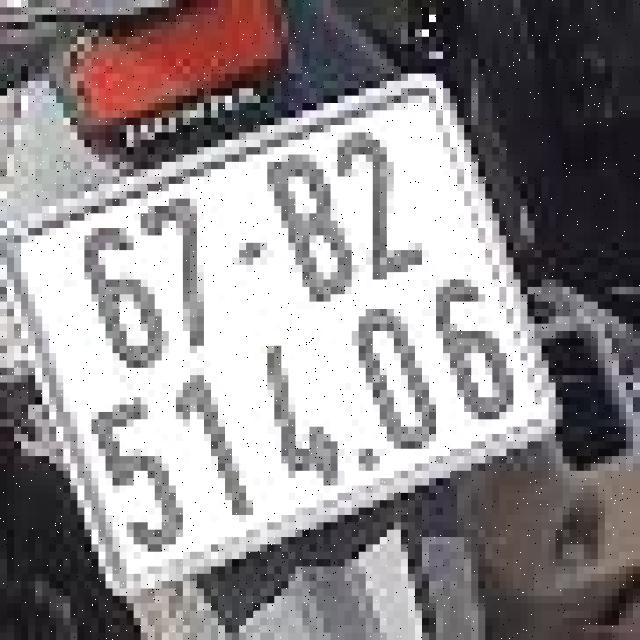0: (334, 295, 452, 462)
1: (158, 363, 266, 535)
2: (323, 116, 439, 293)
4: (237, 328, 355, 507)
5: (79, 387, 199, 567)
6: (67, 215, 181, 388), (417, 262, 530, 433)
7: (134, 186, 249, 363)
B: (252, 140, 369, 319)
